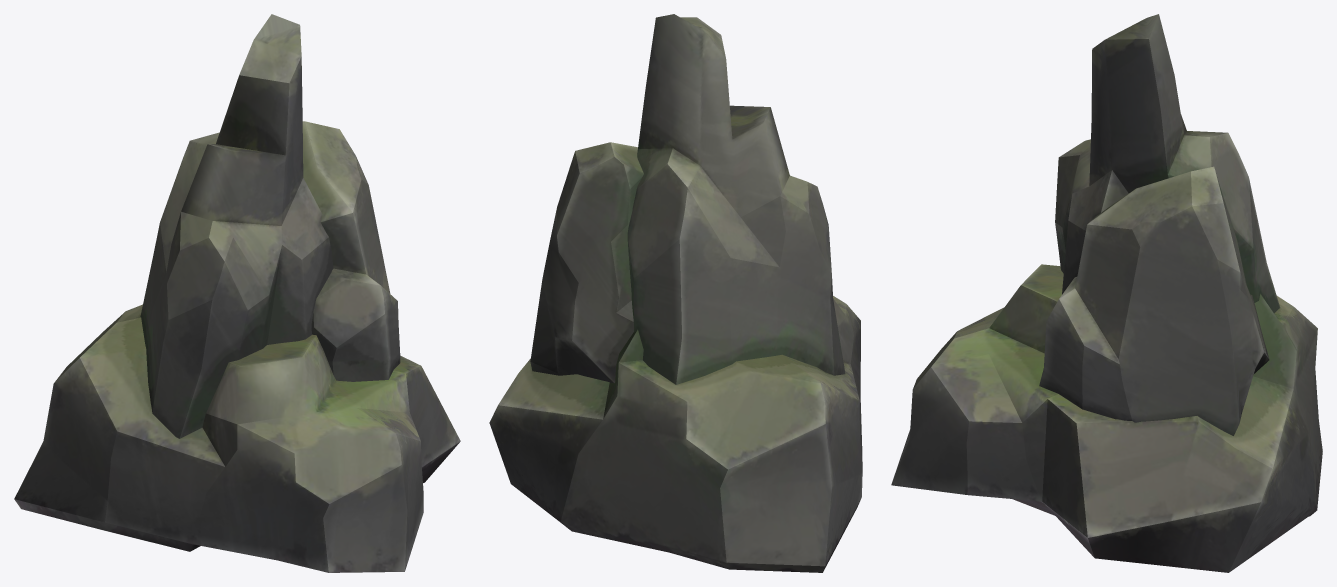
File: Rock_5.gltf
3 views of the same model, side by side, from view 1: azimuth 30°, elevation 25°; view 2: azimuth 150°, elevation 25°; view 3: azimuth 270°, elevation 25° (orthographic). The views are drawn at different scales.
Visible parts, largest first — view 1: Rock_5; view 2: Rock_5; view 3: Rock_5.
Part boxes in pixels (left/top/right/bottom): Rock_5: left=14, top=14, right=460, bottom=572; Rock_5: left=489, top=14, right=862, bottom=572; Rock_5: left=891, top=14, right=1322, bottom=572.
Bounding box in the file's own units: 1.29 × 1.69 × 1.32.
1 material, 1 textured.
